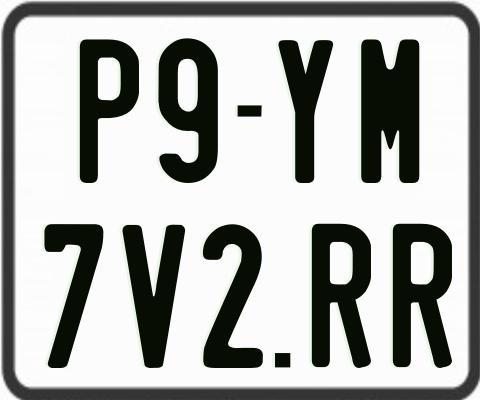2: (200, 222, 262, 368)
7: (42, 222, 103, 367)
9: (157, 35, 221, 183)
M: (361, 36, 420, 181)
P: (78, 38, 140, 184)
R: (310, 222, 375, 367), (392, 221, 453, 371)
V: (121, 225, 185, 373)
Y: (278, 40, 333, 189)
